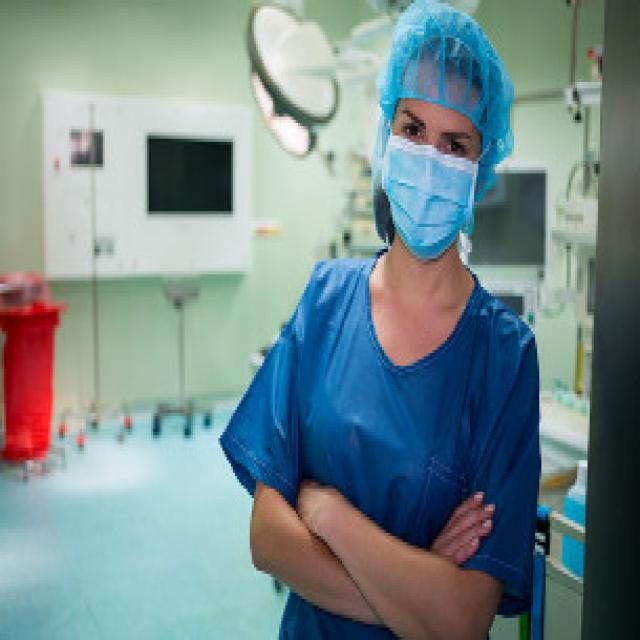mask: (383, 74, 482, 260)
